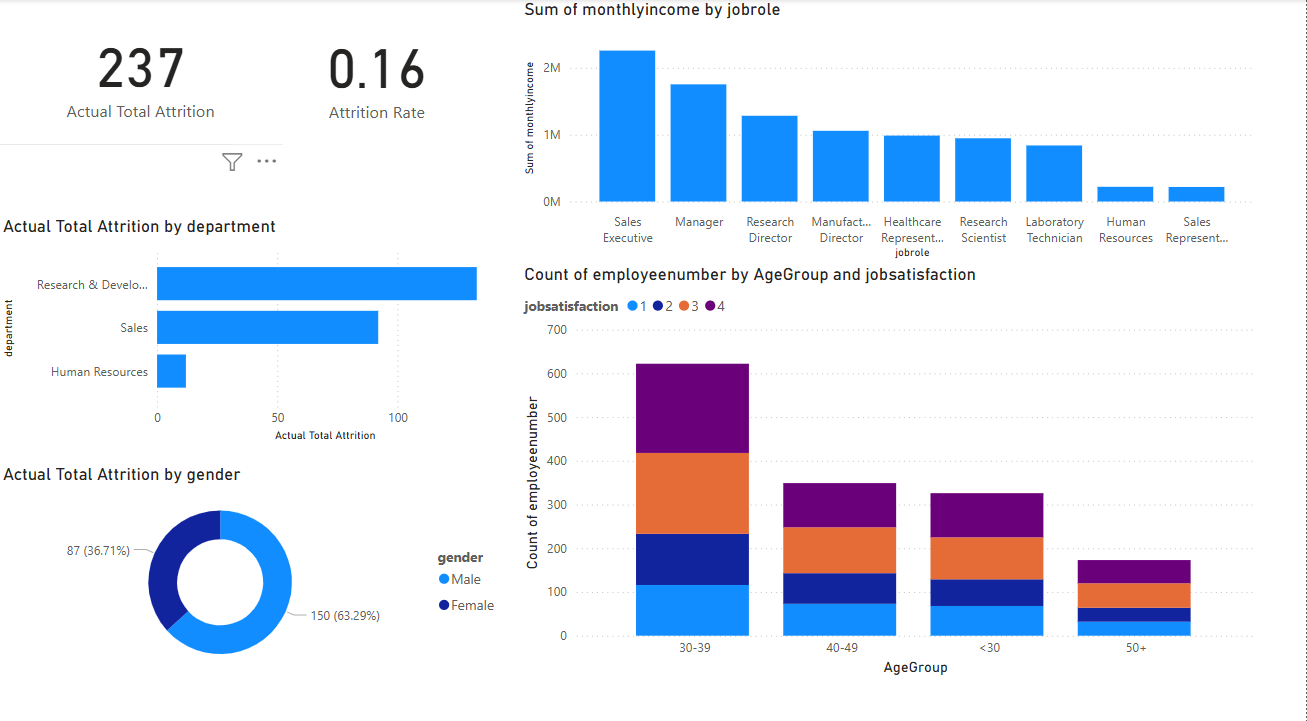

The page's visual inventory and layout, read from the dashboard file:
{"tool":"powerbi","page":{"name":"Page 1","canvas":[1280,720],"ordinal":0},"visuals":[{"type":"card","fields":{"Values":["public fct_attrition_summary.Actual Total Attrition"]},"box":[0,0,279.4,142.5],"z":0},{"type":"card","fields":{"Values":["public fct_attrition_summary.Attrition Rate"]},"box":[230.9,1.4,279.4,141.1],"z":1000},{"type":"clusteredBarChart","fields":{"Category":["public fct_attrition_summary.department"],"Y":["public fct_attrition_summary.Total Attrition by dep"]},"box":[0,210.9,500,226.6],"z":2000},{"type":"donutChart","fields":{"Y":["public fct_attrition_summary.Actual Total Attrition"],"Category":["public fct_attrition_summary.gender"]},"box":[0,455.5,500,211],"z":3000},{"type":"columnChart","fields":{"Category":["public int_hr_attrition_features.jobrole"],"Y":["Sum(public int_hr_attrition_features.monthlyincome)"]},"box":[510.4,0,724,259.1],"z":4000},{"type":"columnChart","fields":{"Category":["public stg_hr_employee_attrition.AgeGroup"],"Series":["public int_hr_attrition_features.jobsatisfaction"],"Y":["CountNonNull(public int_hr_attrition_features.employeenumber)"]},"box":[510.4,259.1,724,407.6],"z":5000}]}

Visuals, with their boxes in screenshot pixels (x1, y1, x2, y2), scaled from the page's 1280x720 canvas onto the 1307x721 screenshot:
card - public fct_attrition_summary.Actual Total Attrition: l=0, t=0, r=285, b=143
card - public fct_attrition_summary.Attrition Rate: l=236, t=1, r=521, b=143
clusteredBarChart - public fct_attrition_summary.department x public fct_attrition_summary.Total Attrition by dep: l=0, t=211, r=511, b=438
donutChart - public fct_attrition_summary.Actual Total Attrition x public fct_attrition_summary.gender: l=0, t=456, r=511, b=667
columnChart - public int_hr_attrition_features.jobrole x Sum(public int_hr_attrition_features.monthlyincome): l=521, t=0, r=1260, b=259
columnChart - public stg_hr_employee_attrition.AgeGroup x public int_hr_attrition_features.jobsatisfaction: l=521, t=259, r=1260, b=668
